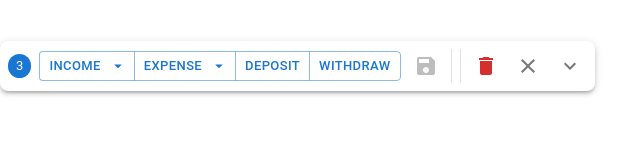
Scenario: CompactActionBar › Expand/collapse toggle › expands when expand button is clicked
The width and height of the screenshot is (620, 160).
# Click expand button
Click the button with test id "expand-button".
click(570, 66)  # box [553, 49, 587, 83]
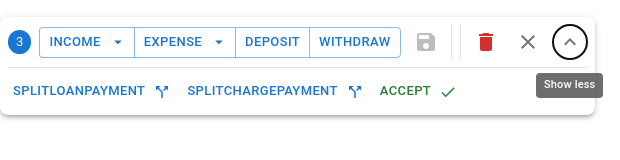
Expected: the button "splitLoanPayment" is shown, [8, 76, 174, 107]
